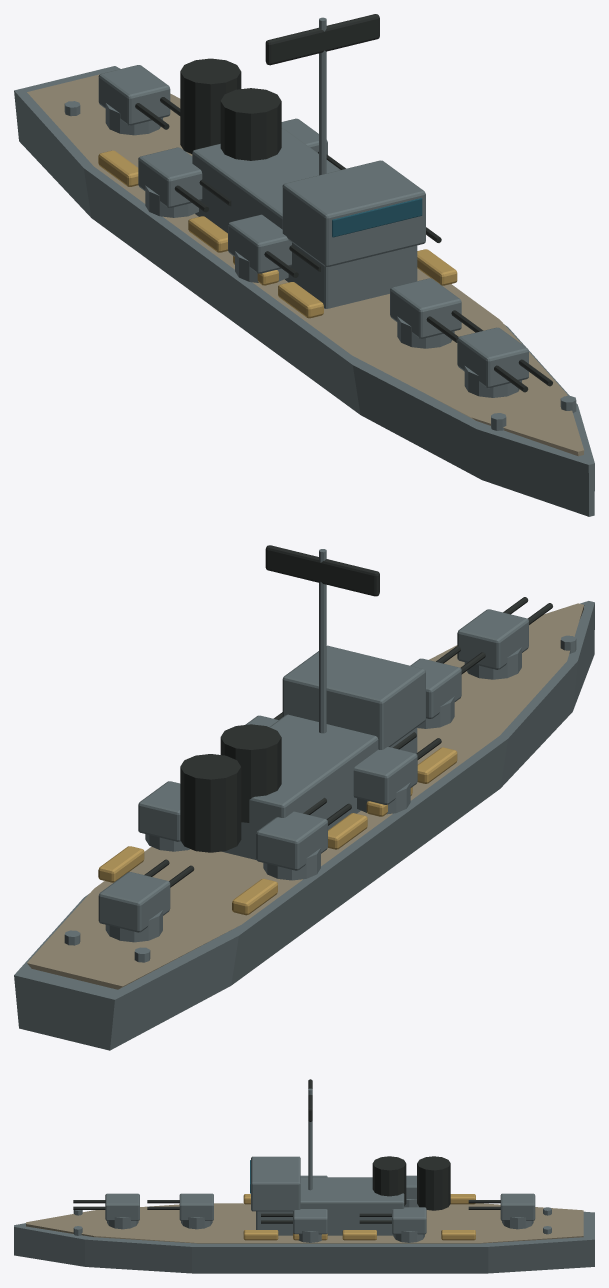
Rendered from destroyer.glb.
The picture shows the model from 3 angles, top to bottom: view 1: azimuth 30°, elevation 25°; view 2: azimuth 150°, elevation 25°; view 3: azimuth 270°, elevation 25°; orthographic projection. The views are drawn at different scales.
Parts seen in each view (by area): view 1: destroyer_airframe; view 2: destroyer_airframe; view 3: destroyer_airframe.
Part boxes in pixels (x1=…): destroyer_airframe: x1=14, y1=14, x2=594, y2=516; destroyer_airframe: x1=14, y1=545, x2=594, y2=1050; destroyer_airframe: x1=14, y1=1079, x2=594, y2=1273.
Bounding box in the file's own units: 2.16 × 3.69 × 11.76.
